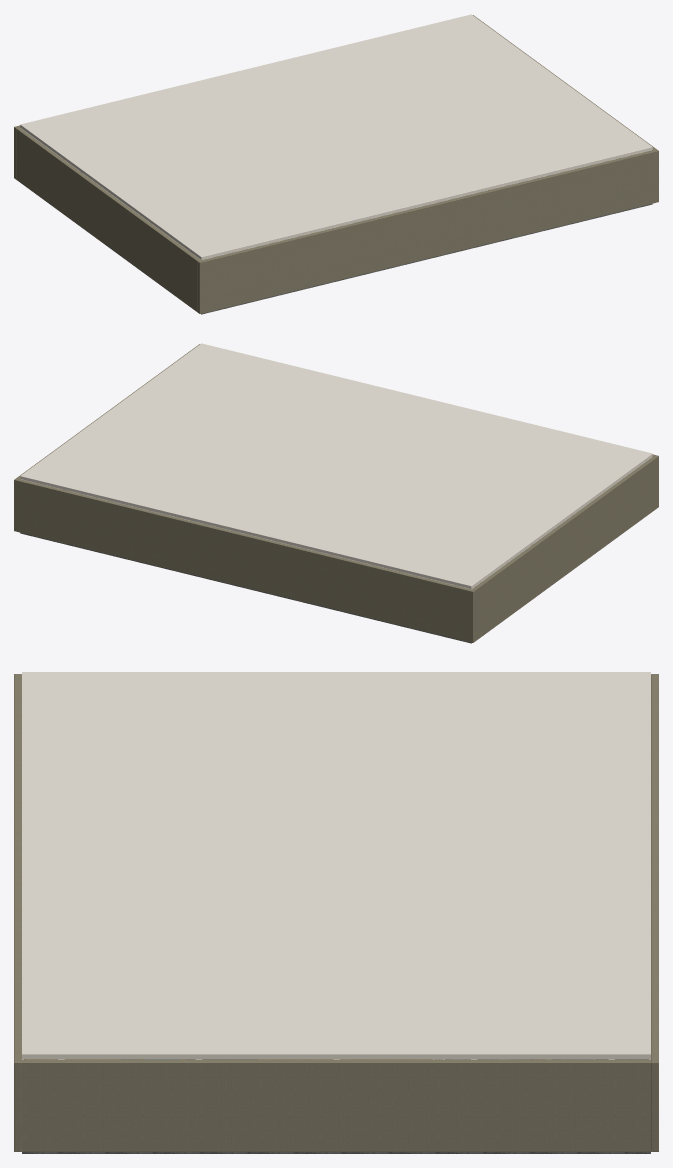
The model's file is museum.glb.
3 views of the same model, one above another, from view 1: azimuth 30°, elevation 25°; view 2: azimuth 150°, elevation 25°; view 3: azimuth 270°, elevation 25° (orthographic). The views are drawn at different scales.
Parts seen in each view (by area): view 1: statis; view 2: statis; view 3: statis.
Part boxes in pixels (x1=…): statis: x1=14, y1=14, x2=658, y2=314; statis: x1=14, y1=343, x2=658, y2=643; statis: x1=14, y1=672, x2=658, y2=1153.
Size of the model in its own units: 46.8 by 5.6 by 32.8.
Materials: 69 (62 with a texture image).
